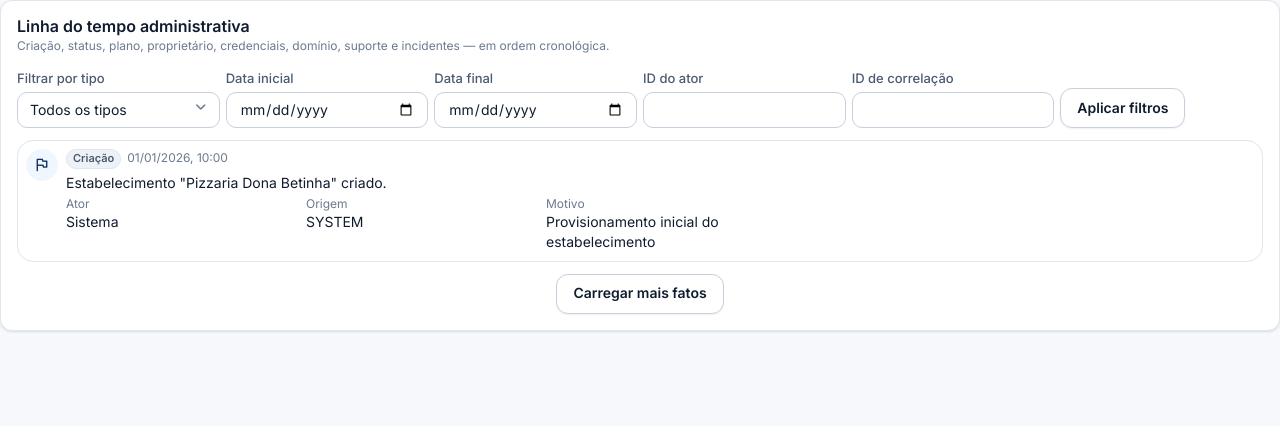
Scenario: TenantAdministrativeTimelineSection › carrega a próxima página da linha do tempo usando o cursor retornado
This screenshot has width=1280, height=426.
Click the button "Carregar mais fatos": (640, 294) [556, 274, 724, 314]
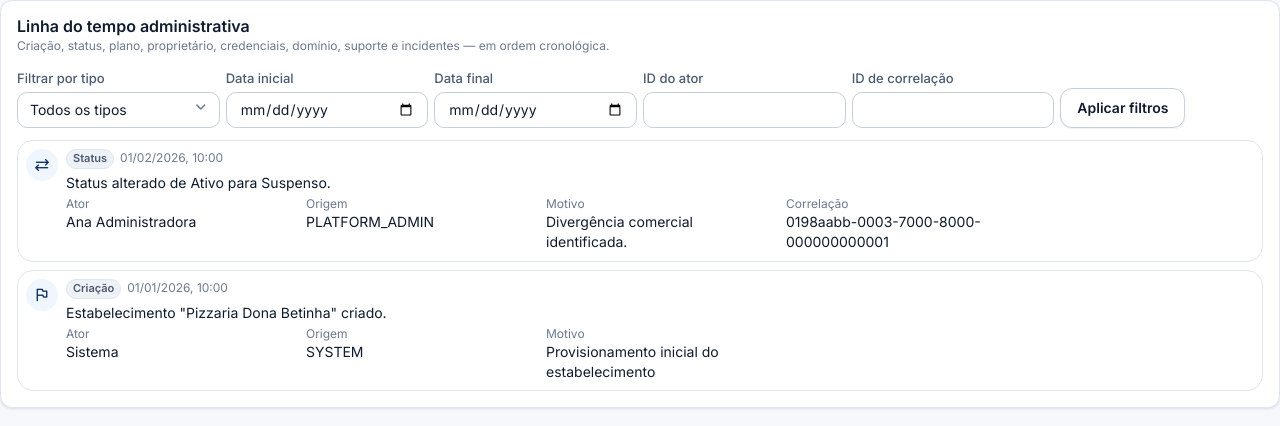
Now the number of list items is 2, box [17, 140, 1263, 262]; [17, 270, 1263, 391]
